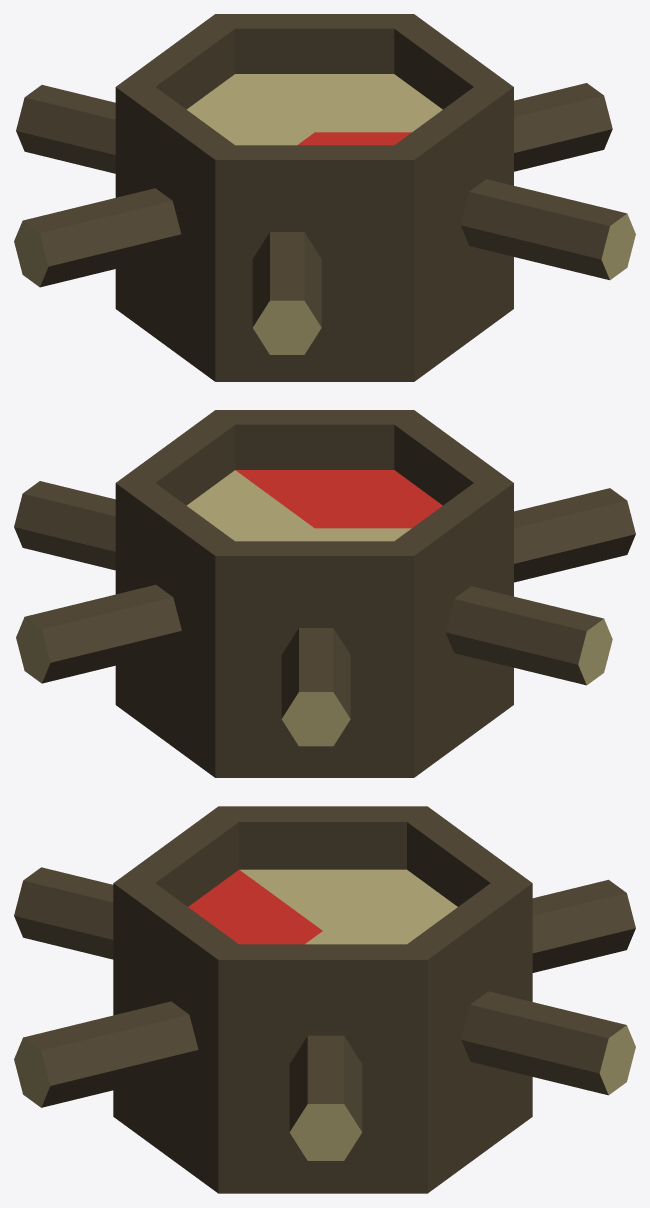
The model's file is Raft_helm.fbx.
3 views of the same model, one above another, from view 1: azimuth 30°, elevation 25°; view 2: azimuth 150°, elevation 25°; view 3: azimuth 270°, elevation 25° (orthographic). The views are drawn at different scales.
Parts seen in each view (by area): view 1: helm; view 2: helm; view 3: helm.
Part boxes in pixels (x1=…): helm: x1=14, y1=14, x2=635, y2=381; helm: x1=14, y1=410, x2=635, y2=777; helm: x1=14, y1=806, x2=635, y2=1193.
Size of the model in its own units: 271 by 102 by 246.
